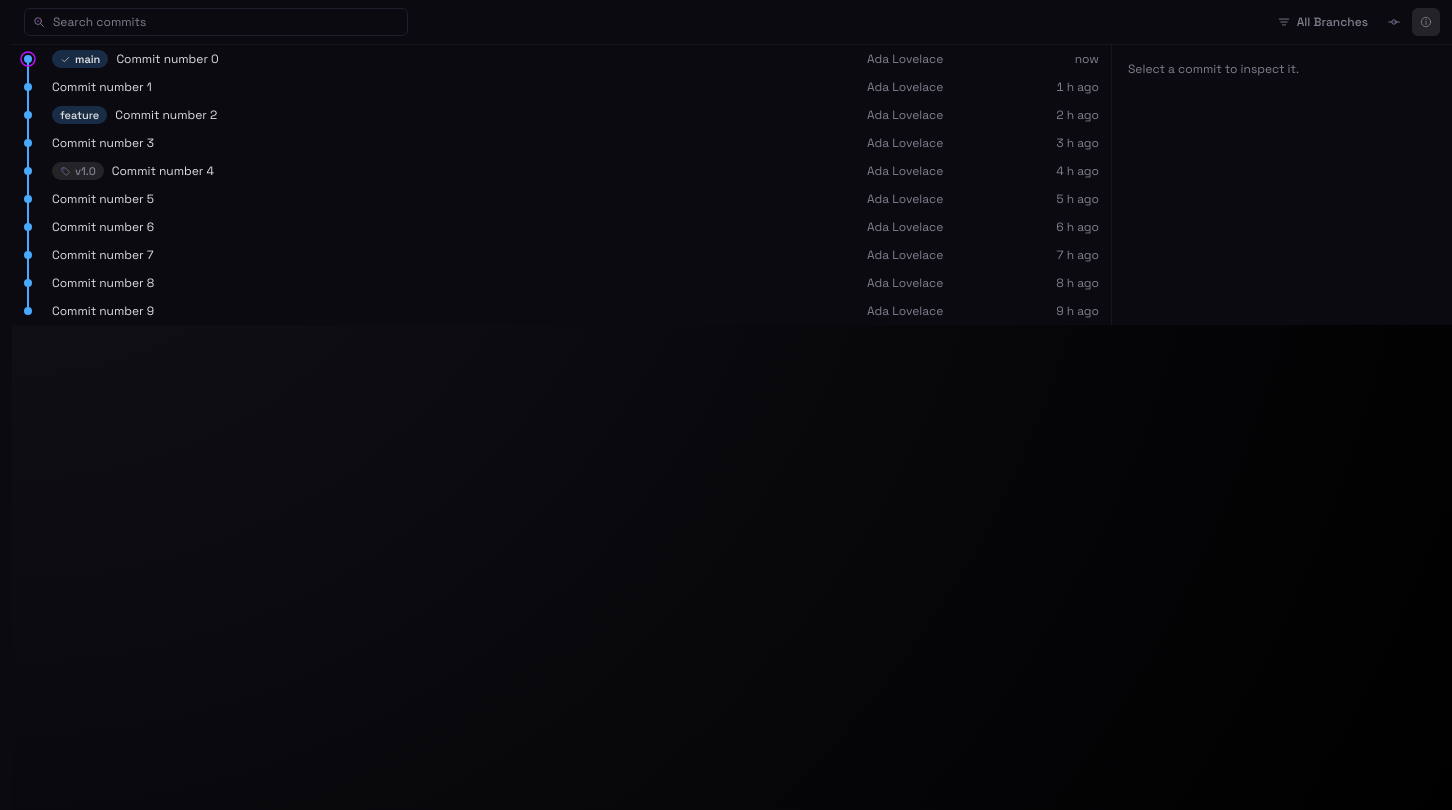
Test: GitGraphView › branch filter › dims commits the chosen branch does not reach, without reloading
Click the button with aria-label "Branches: All Branches". click: point(1322, 22)
box: [1269,8,1376,36]
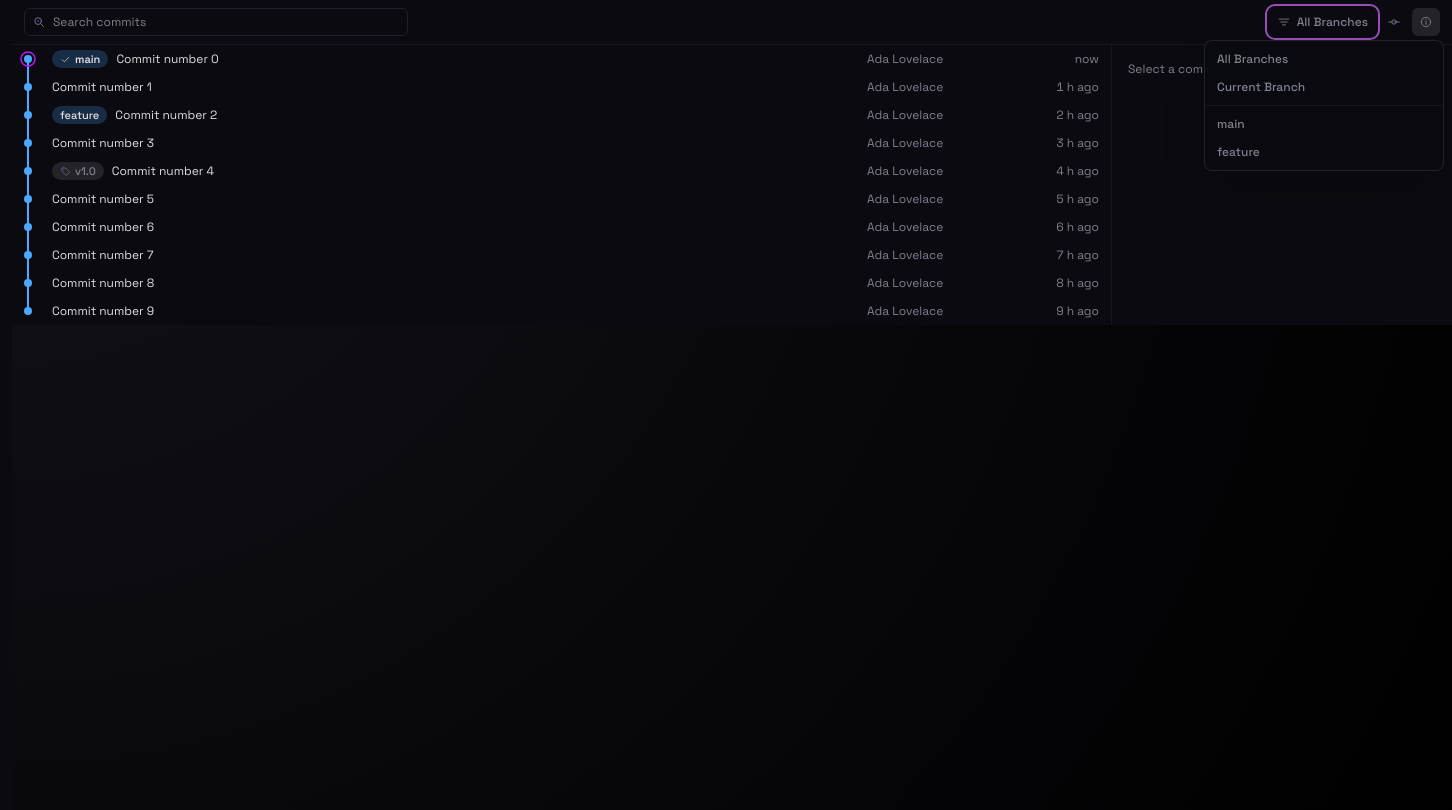
Click the menu item "feature". click: point(1324, 152)
box: [1205,138,1443,166]
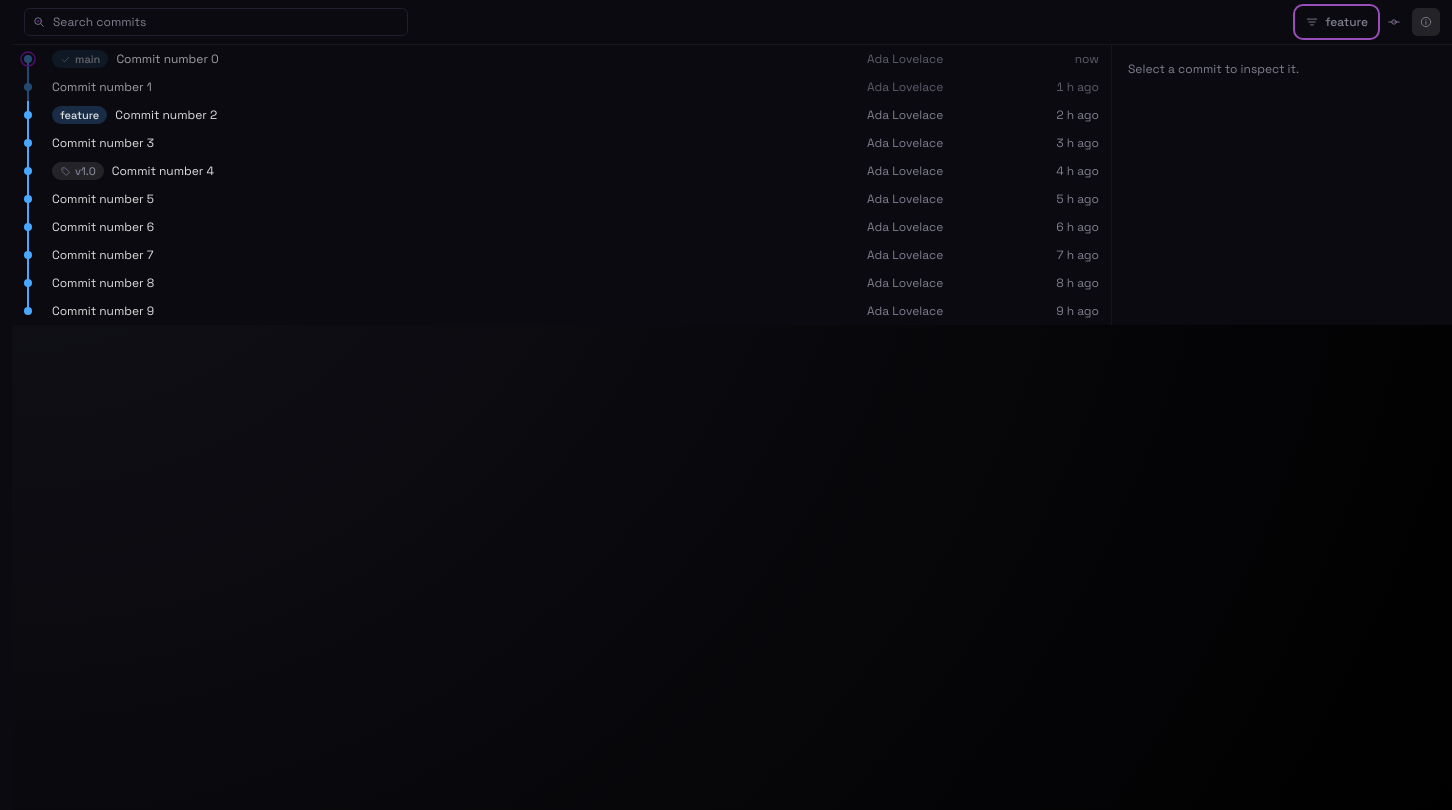
Check: the button with aria-label "Branches: feature" is shown, box [1297,8,1376,36]
